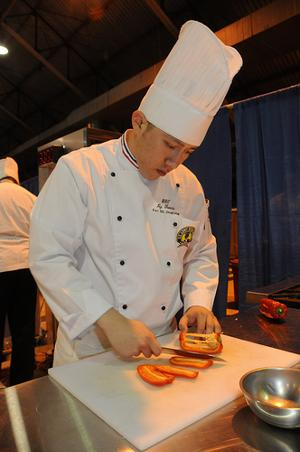person: (27, 15, 245, 370)
